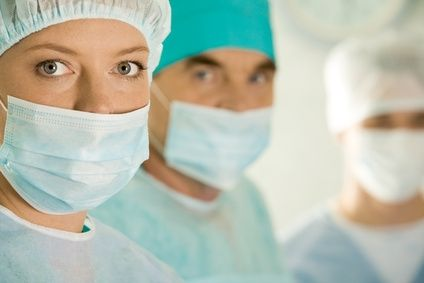surgical: (2, 92, 152, 216), (162, 97, 272, 191)
